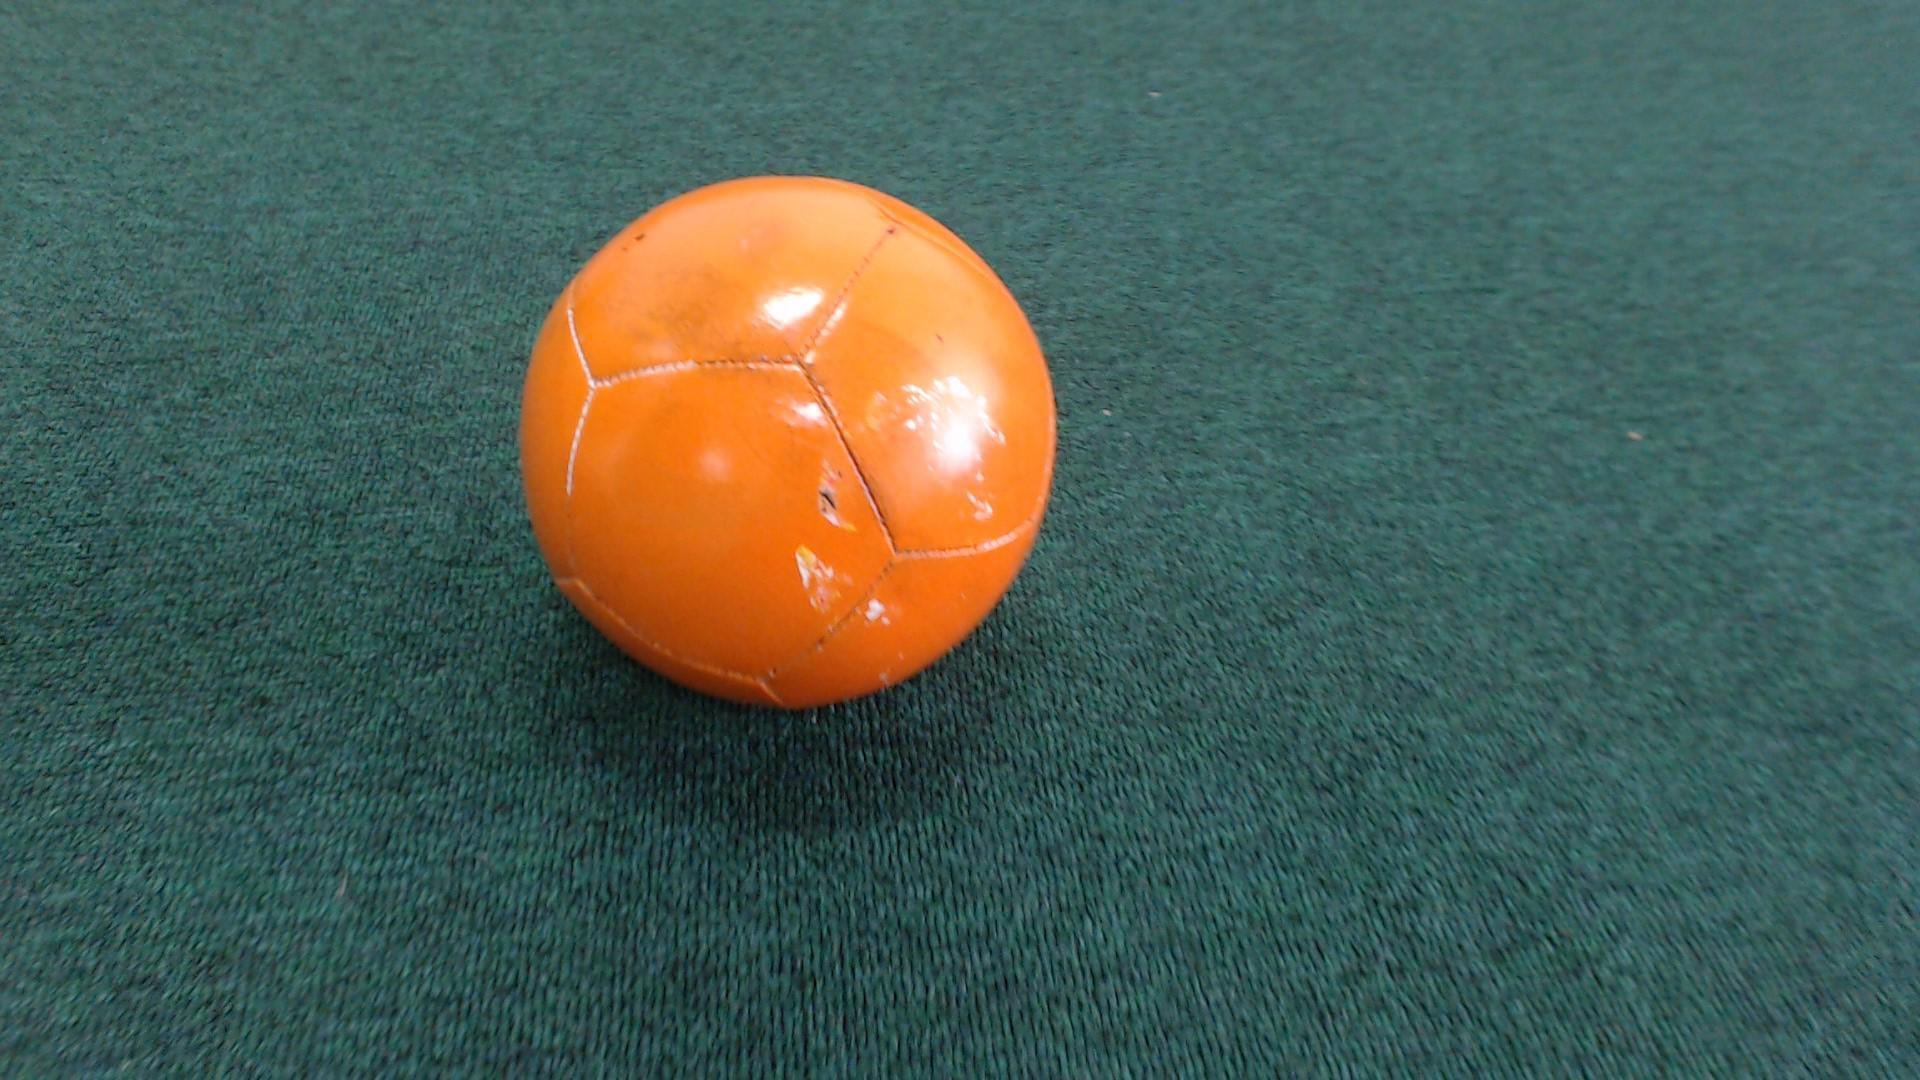bola: (514, 152, 1068, 735)
